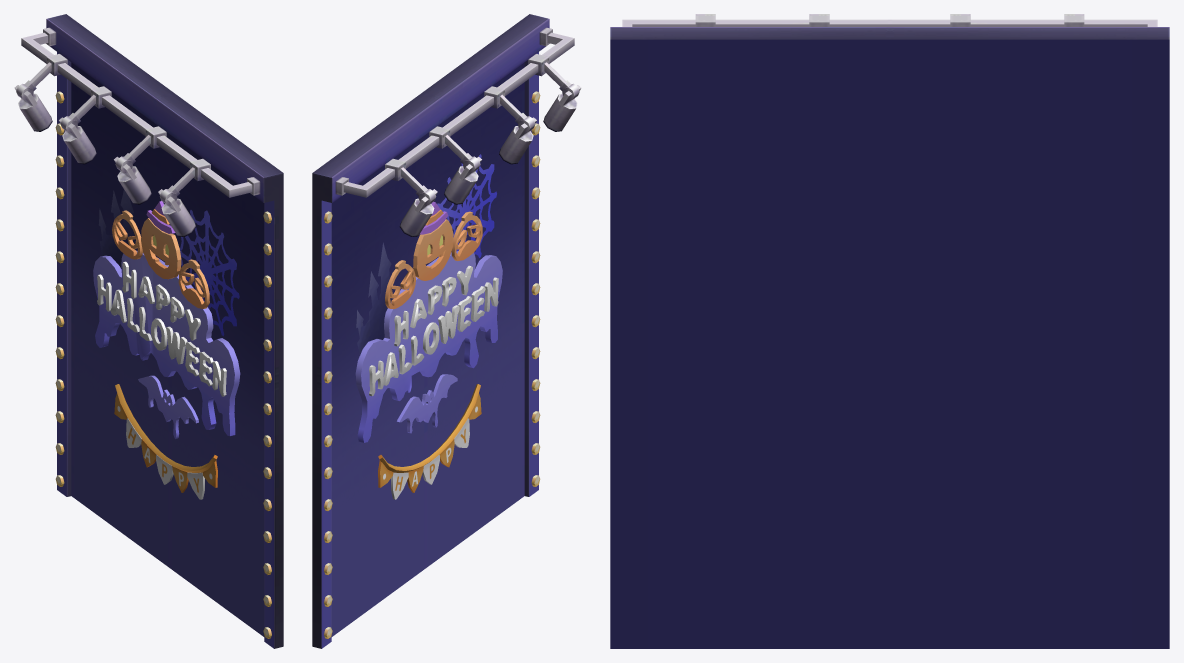
Rendered from my_halloween_01_p_wall_acc_04.glb.
3 renders of one model, left to right at view 1: azimuth 30°, elevation 25°; view 2: azimuth 150°, elevation 25°; view 3: azimuth 270°, elevation 25°, orthographic. The views are drawn at different scales.
Parts seen in each view (by area): view 1: my_halloween_01_p_wall_acc_04; view 2: my_halloween_01_p_wall_acc_04; view 3: my_halloween_01_p_wall_acc_04.
Part boxes in pixels (x1,y1,x2,y2): my_halloween_01_p_wall_acc_04: (14,14,283,648); my_halloween_01_p_wall_acc_04: (312,14,581,648); my_halloween_01_p_wall_acc_04: (610,14,1169,648).
Size of the model in its own units: 0.00804 by 0.0431 by 0.0359.
Materials: 2 (2 with a texture image).
